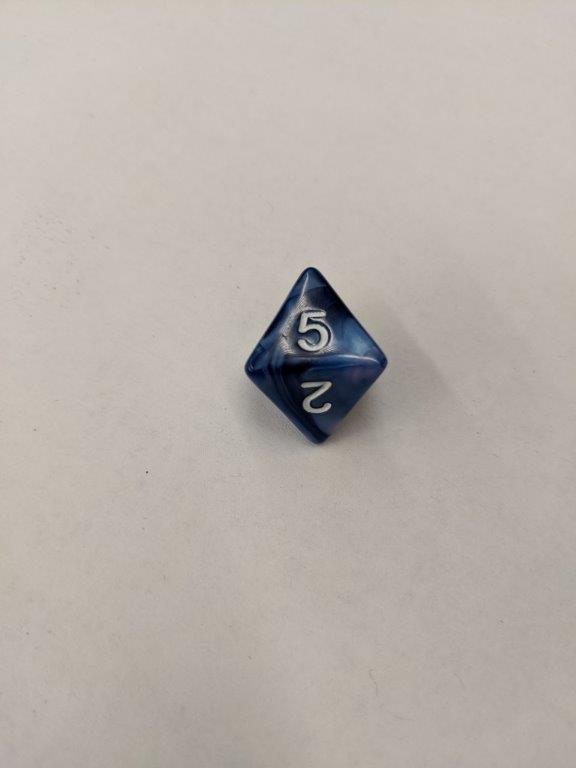d8-5: (238, 266, 387, 450)
